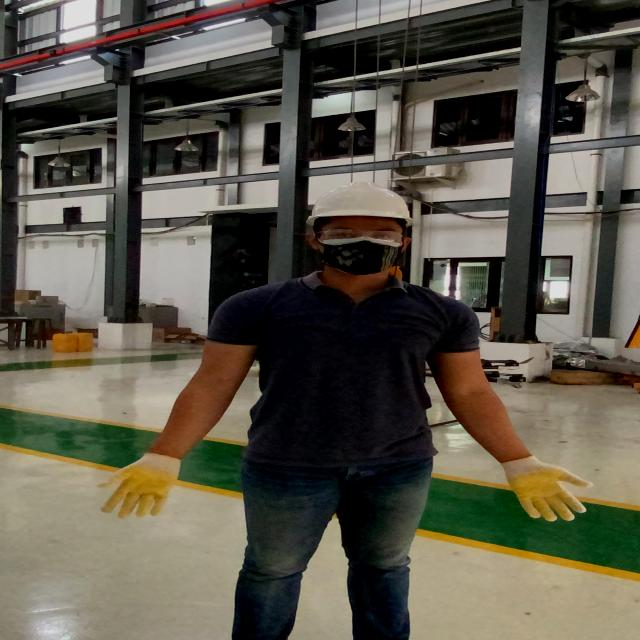face_mask: (304, 226, 409, 275)
glasses: (308, 226, 408, 247)
hand_glove: (495, 458, 603, 524), (84, 452, 183, 518)
head_helmet: (304, 182, 417, 224)
person: (93, 181, 584, 640)
